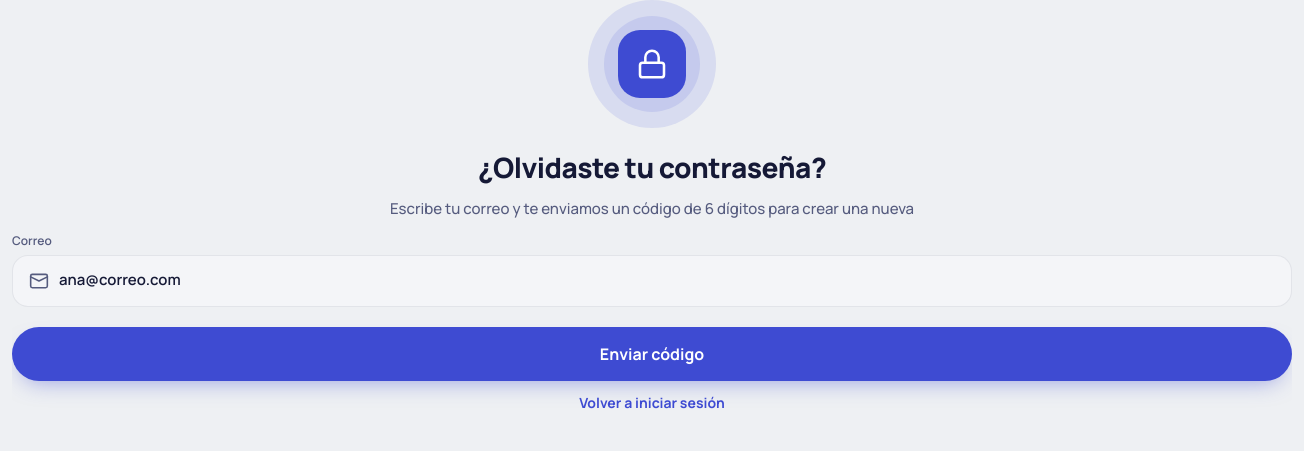
ResetEmailStep › says there is no connection and keeps the email (RF-7)
Click the button "Enviar código": (652, 354) [12, 326, 1292, 380]
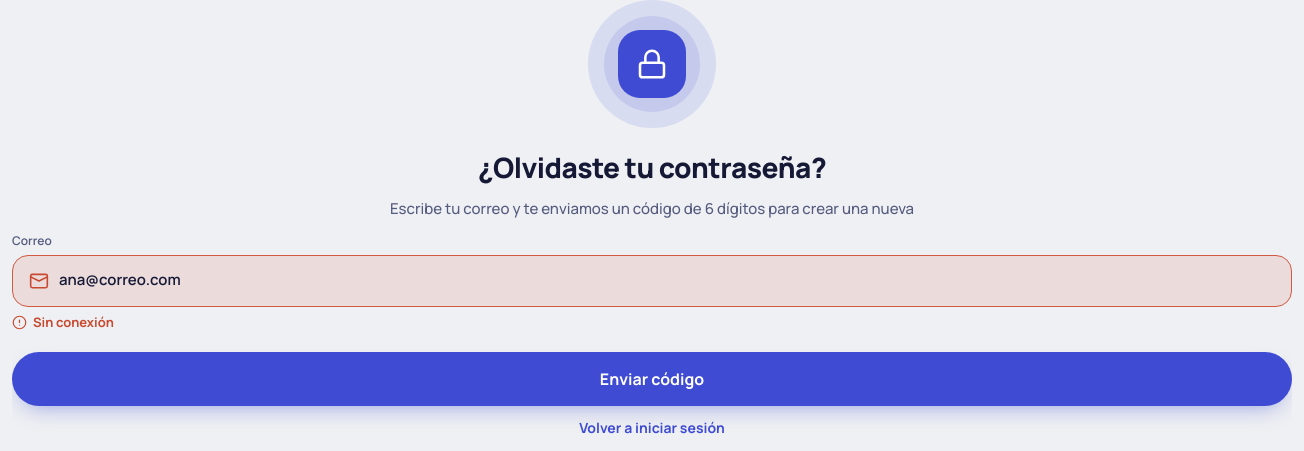
Expected: the field labelled "Correo" holds "ana@correo.com", [59, 269, 1275, 292]
Now the message reads "Sin conexión", box [33, 312, 114, 330]
